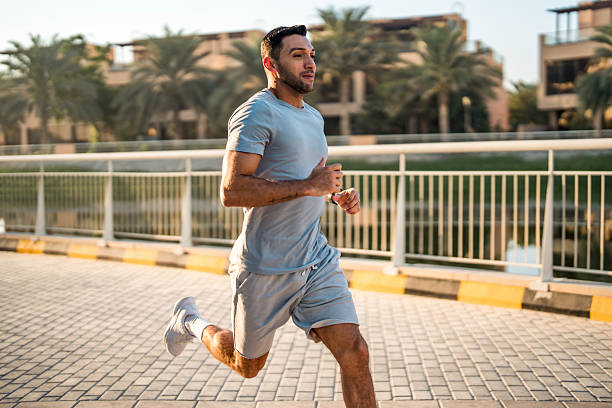Male: (163, 24, 400, 408)
